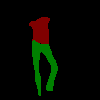jeans: (32, 39, 58, 96)
t-shirt: (29, 16, 50, 44)
